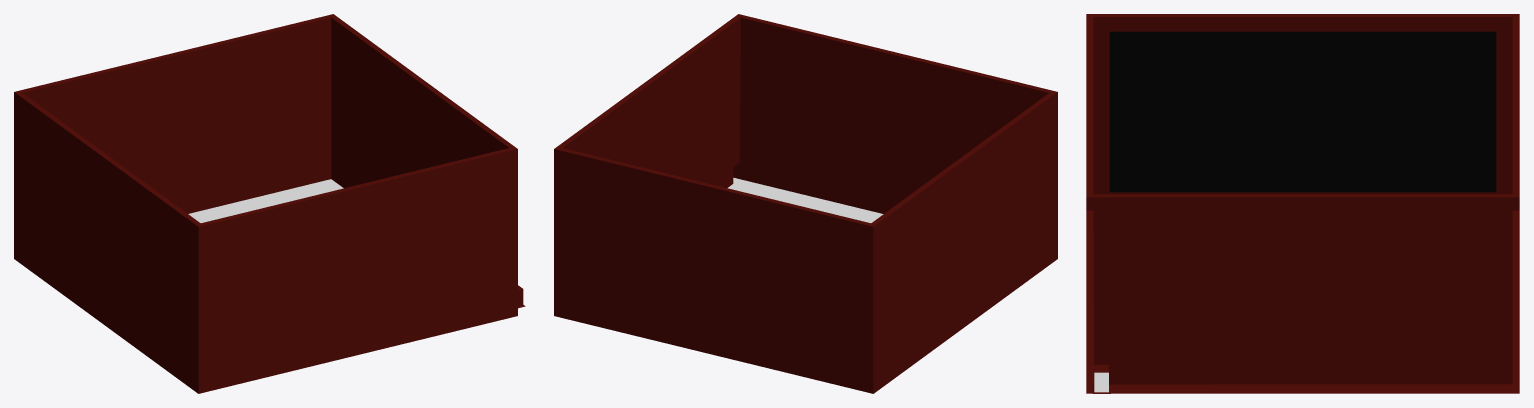
Rendered from Theater.fbx.
3 renders of one model, left to right at view 1: azimuth 30°, elevation 25°; view 2: azimuth 150°, elevation 25°; view 3: azimuth 270°, elevation 25°, orthographic. The views are drawn at different scales.
Visible parts, largest first — view 1: Screening Room Building; view 2: Screening Room Building; view 3: Screening Room Building.
Part boxes in pixels (x1=…): Screening Room Building: x1=14, y1=14, x2=525, y2=393; Screening Room Building: x1=554, y1=14, x2=1057, y2=393; Screening Room Building: x1=1086, y1=14, x2=1519, y2=393.
Size of the model in its own units: 6201 by 3000 by 6000.
